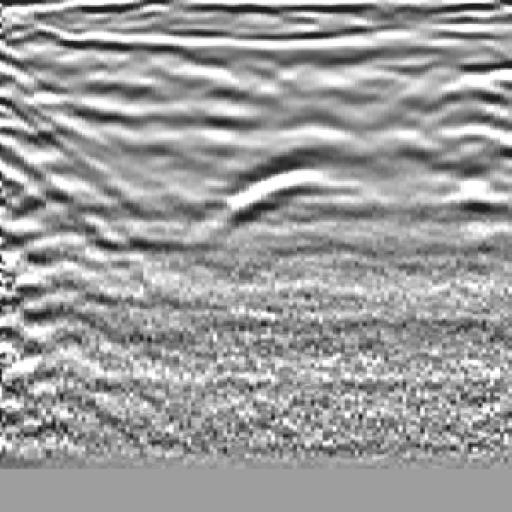metalic: (203, 125, 364, 273)
nonmetalic: (1, 36, 96, 293)
